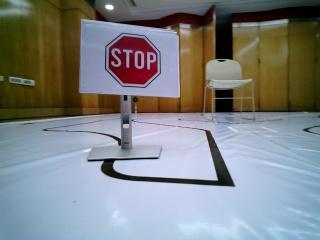stop: (93, 25, 171, 95)
